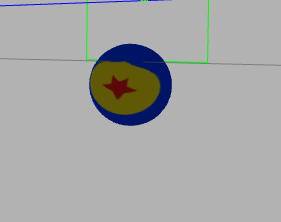toy story ball: (89, 43, 174, 125)
